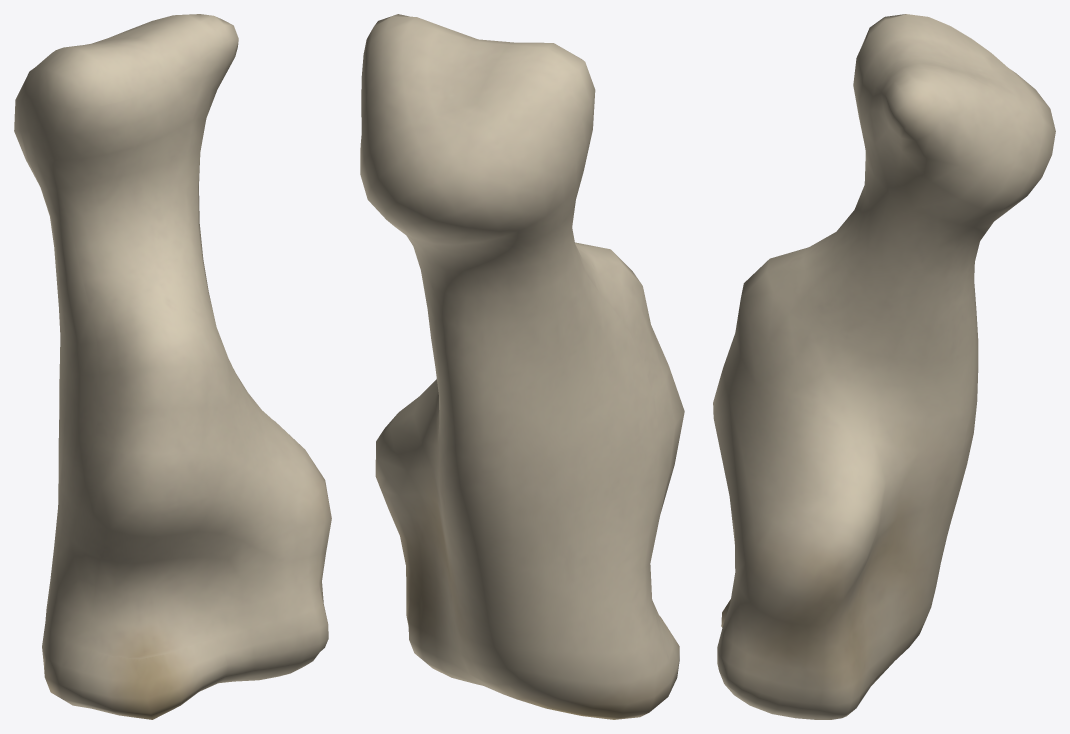
File: R calcaneus.fbx
The picture shows the model from 3 angles, left to right: view 1: azimuth 30°, elevation 25°; view 2: azimuth 150°, elevation 25°; view 3: azimuth 270°, elevation 25°; orthographic projection. The views are drawn at different scales.
Parts seen in each view (by area): view 1: R calcaneus; view 2: R calcaneus; view 3: R calcaneus.
Part boxes in pixels (<box>): R calcaneus: <box>14,14,331,719</box>; R calcaneus: <box>360,14,684,719</box>; R calcaneus: <box>713,14,1055,719</box>.
Size of the model in its own units: 4.39 by 9.94 by 4.8.
